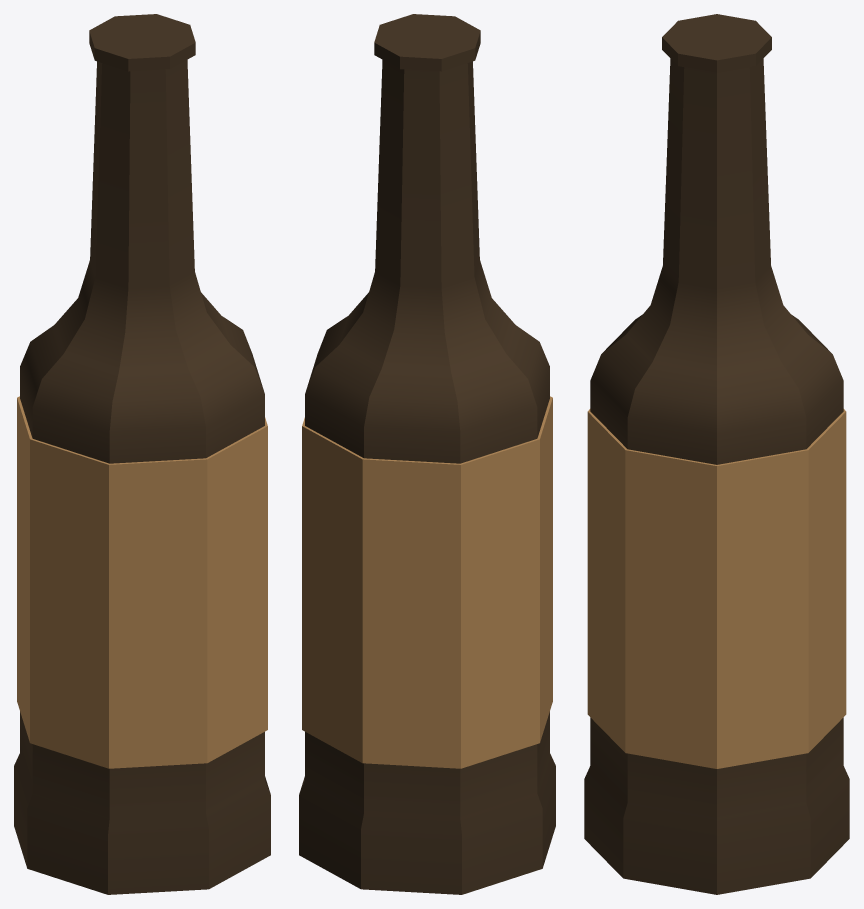
The model's file is soda1.fbx.
3 views of the same model, side by side, from view 1: azimuth 30°, elevation 25°; view 2: azimuth 150°, elevation 25°; view 3: azimuth 270°, elevation 25° (orthographic).
Visible parts, largest first — view 1: soda_1; view 2: soda_1; view 3: soda_1.
Boxes of the visible parts, <box> form: soda_1: <box>14,14,270,894</box>; soda_1: <box>299,14,555,894</box>; soda_1: <box>584,14,849,894</box>.
Size of the model in its own units: 2.1 by 6.99 by 2.1.
